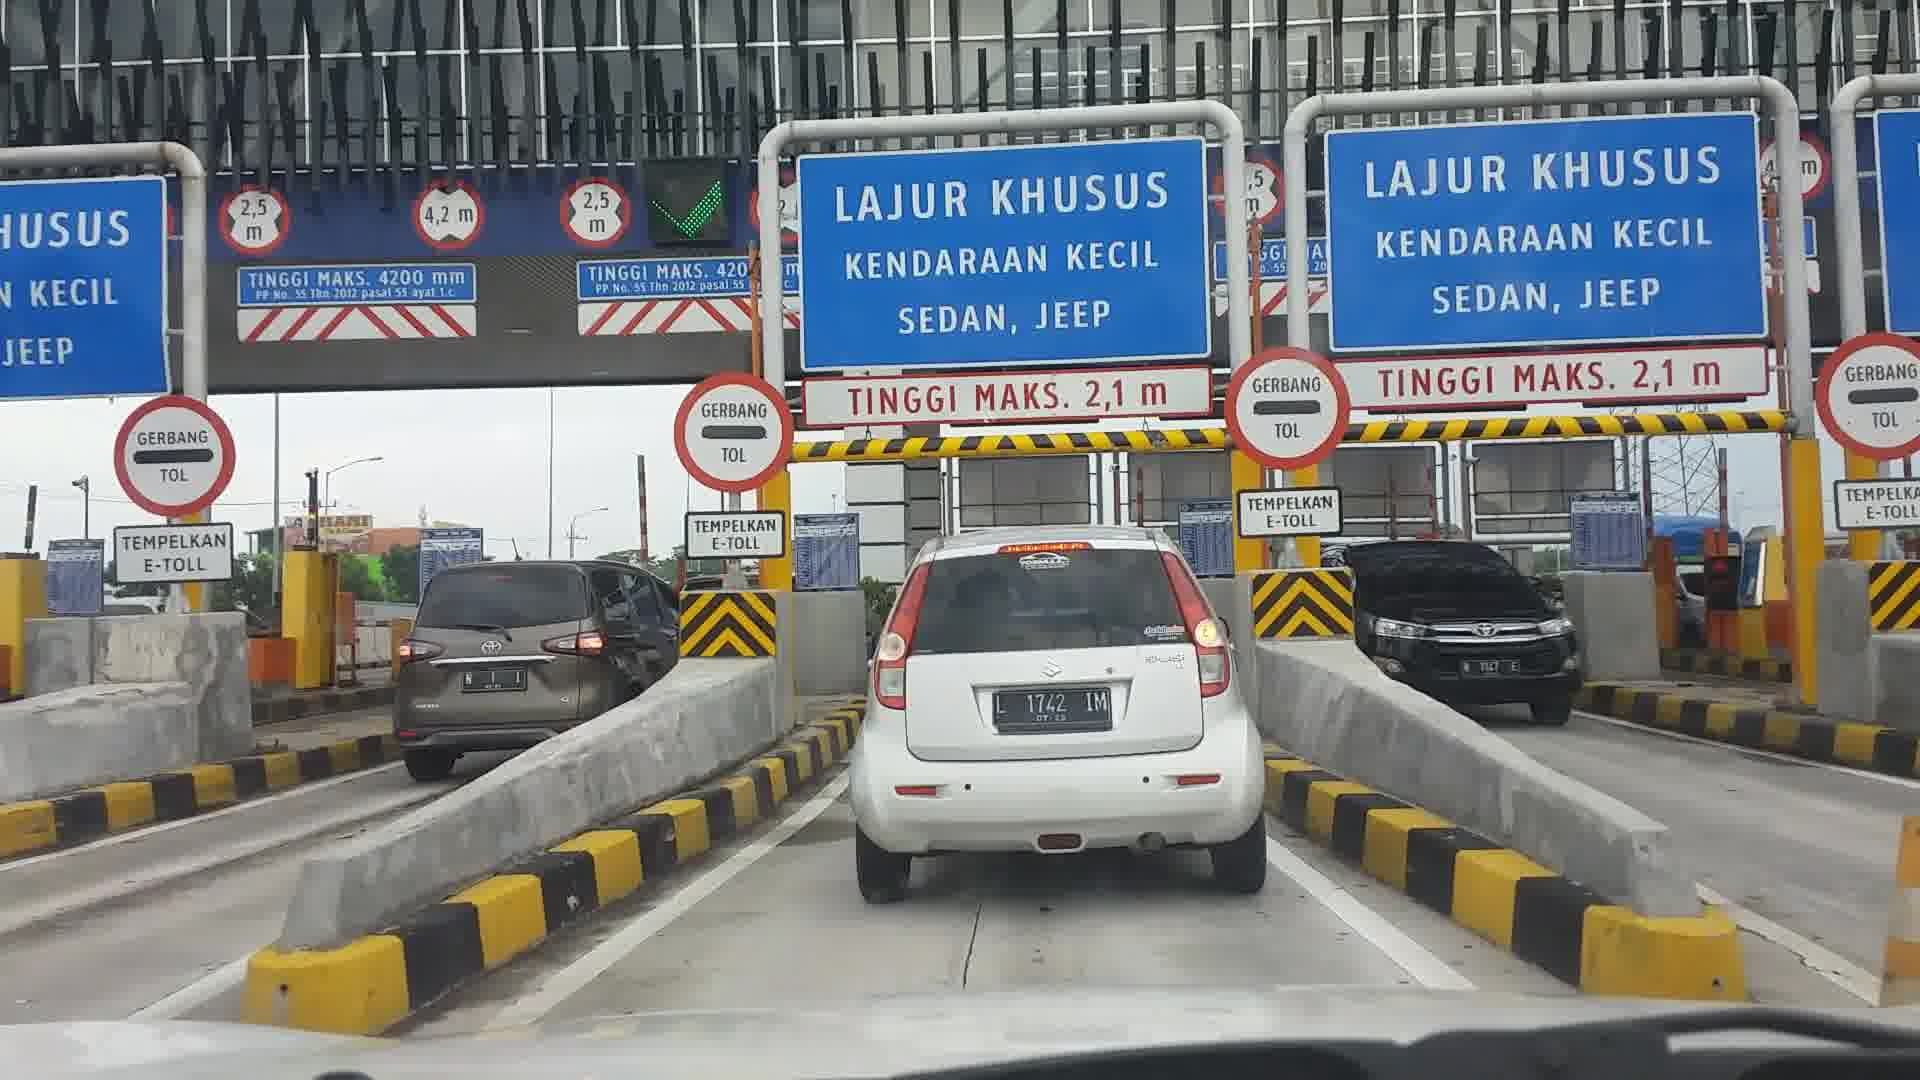plate_positive: (992, 691, 1112, 732), (462, 669, 525, 694)
